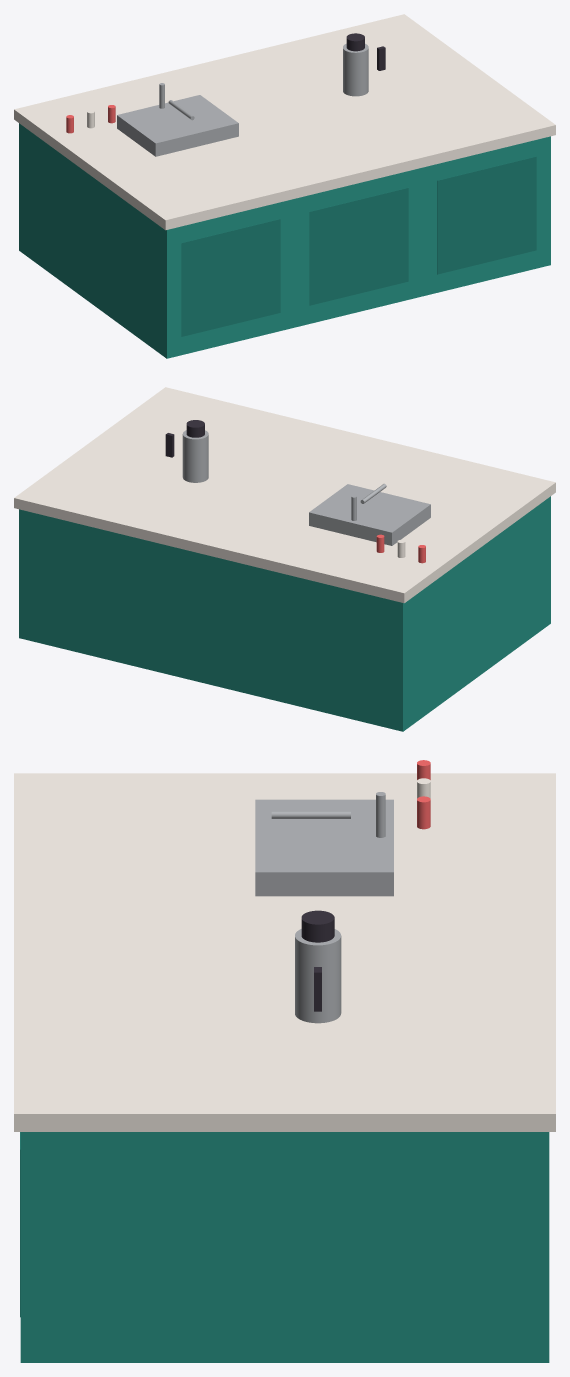
The model's file is hall_kitchenette.glb.
3 renders of one model, top to bottom at view 1: azimuth 30°, elevation 25°; view 2: azimuth 150°, elevation 25°; view 3: azimuth 270°, elevation 25°, orthographic. The views are drawn at different scales.
Visible parts, largest first — view 1: counter_top, base_cabinet, door_inset_2, door_inset_1, door_inset_0, sink_basin, urn_kettle; view 2: base_cabinet, counter_top, sink_basin, urn_kettle; view 3: counter_top, base_cabinet, sink_basin, urn_kettle, kettle_lid.
Part boxes in pixels (x1,y1,x2,y2): counter_top: [14, 14, 555, 230]; base_cabinet: [19, 123, 550, 358]; door_inset_2: [437, 156, 536, 274]; door_inset_1: [309, 187, 408, 305]; door_inset_0: [181, 219, 280, 336]; sink_basin: [117, 95, 238, 156]; urn_kettle: [343, 43, 368, 96]; base_cabinet: [19, 496, 550, 731]; counter_top: [14, 387, 555, 603]; sink_basin: [309, 484, 430, 545]; urn_kettle: [182, 430, 208, 482]; counter_top: [14, 773, 555, 1131]; base_cabinet: [20, 1132, 549, 1362]; sink_basin: [255, 799, 393, 896]; urn_kettle: [295, 929, 341, 1023]; kettle_lid: [301, 910, 334, 942].
Size of the model in its own units: 2.44 by 1.16 by 1.64.
